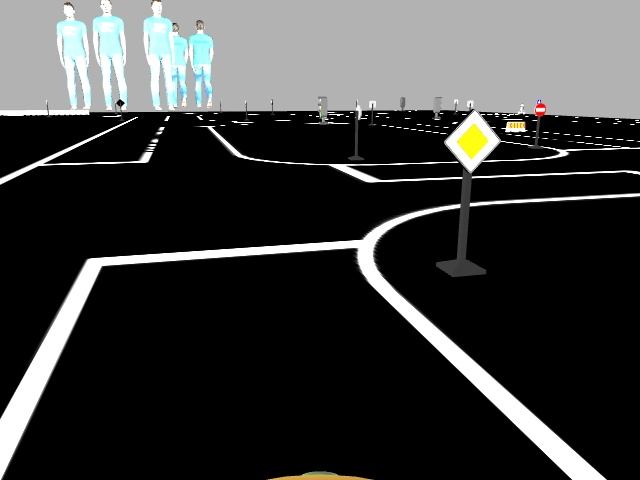Priority: (444, 107, 498, 172)
